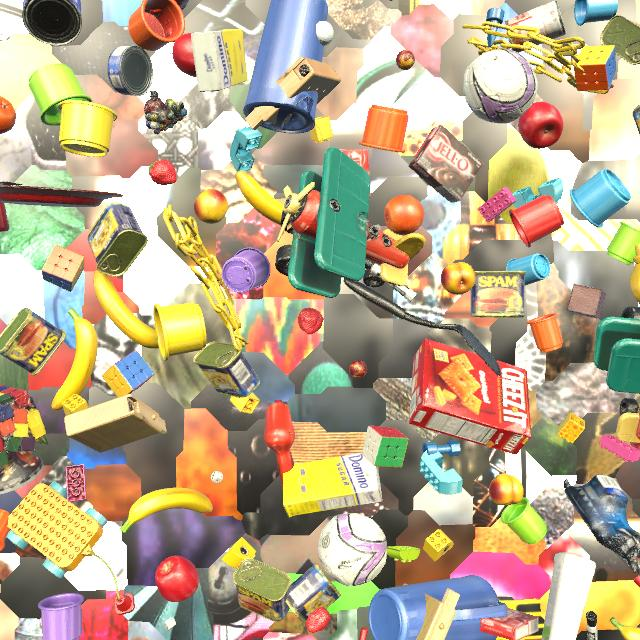ycb_002_master_chef_can: (22, 0, 82, 46)
ycb_003_cracker_box: (409, 338, 531, 455)
ycb_004_sugar_box: (283, 453, 383, 518), (191, 29, 247, 92)
ycb_005_tomato_soup_can: (505, 0, 566, 53)
ycb_006_mustard_bottle: (630, 244, 640, 304)
ycb_007_tuna_fish_can: (107, 46, 153, 96)
ycb_008_pudding_box: (408, 124, 483, 203)
ycb_009_gelatin_box: (480, 607, 539, 640), (339, 149, 370, 198)
ycb_010_potted_meat_can: (87, 203, 148, 277), (0, 308, 66, 376), (193, 342, 260, 398), (233, 558, 291, 622), (286, 563, 341, 624), (471, 271, 526, 318), (600, 15, 640, 65), (632, 105, 640, 135)
ycb_011_banana: (94, 270, 159, 349), (52, 308, 98, 410), (120, 488, 213, 533), (235, 170, 283, 225), (610, 617, 640, 640)
ycb_012_strawberry: (148, 159, 177, 185), (305, 607, 331, 633), (298, 308, 323, 335)
ycb_013_apple: (518, 102, 564, 149), (155, 556, 199, 602), (172, 33, 197, 78)
ycb_015_peach: (194, 189, 228, 224), (441, 262, 476, 295), (489, 474, 524, 505)
ycb_017_orange: (384, 195, 424, 235), (0, 96, 16, 134)
